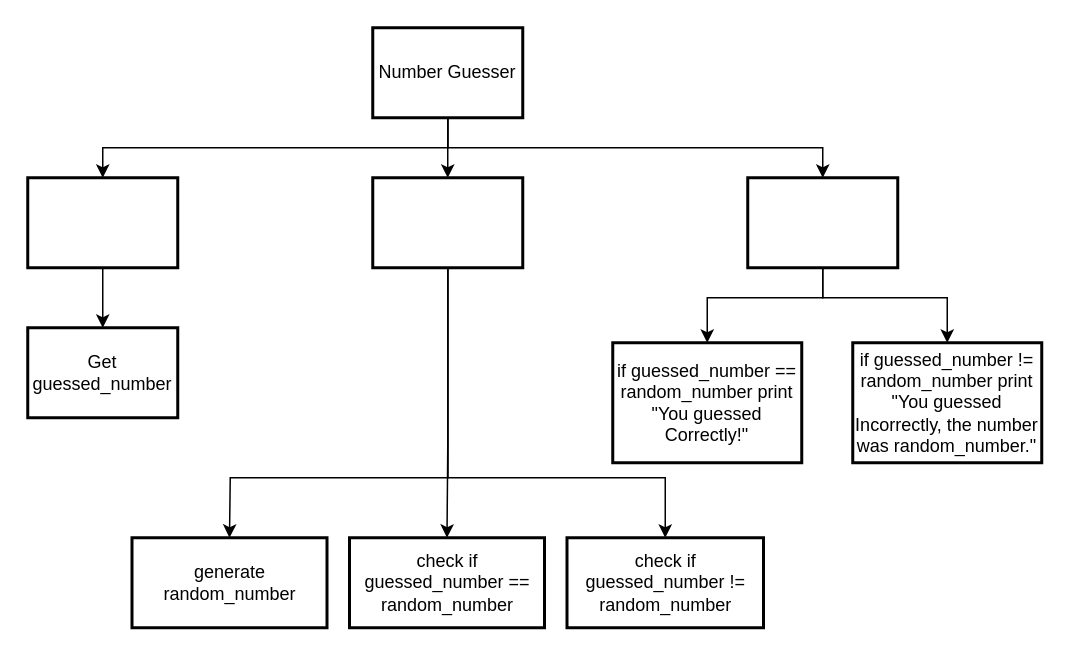
Some shapes in this 1068 by 654 pixel diagram are drawn without their labels. The centre of each missing label's shape, as x and y in pixels:
"Input" belongs at (x=102, y=222).
"Output" belongs at (x=822, y=222).
"Process" belongs at (x=447, y=222).
